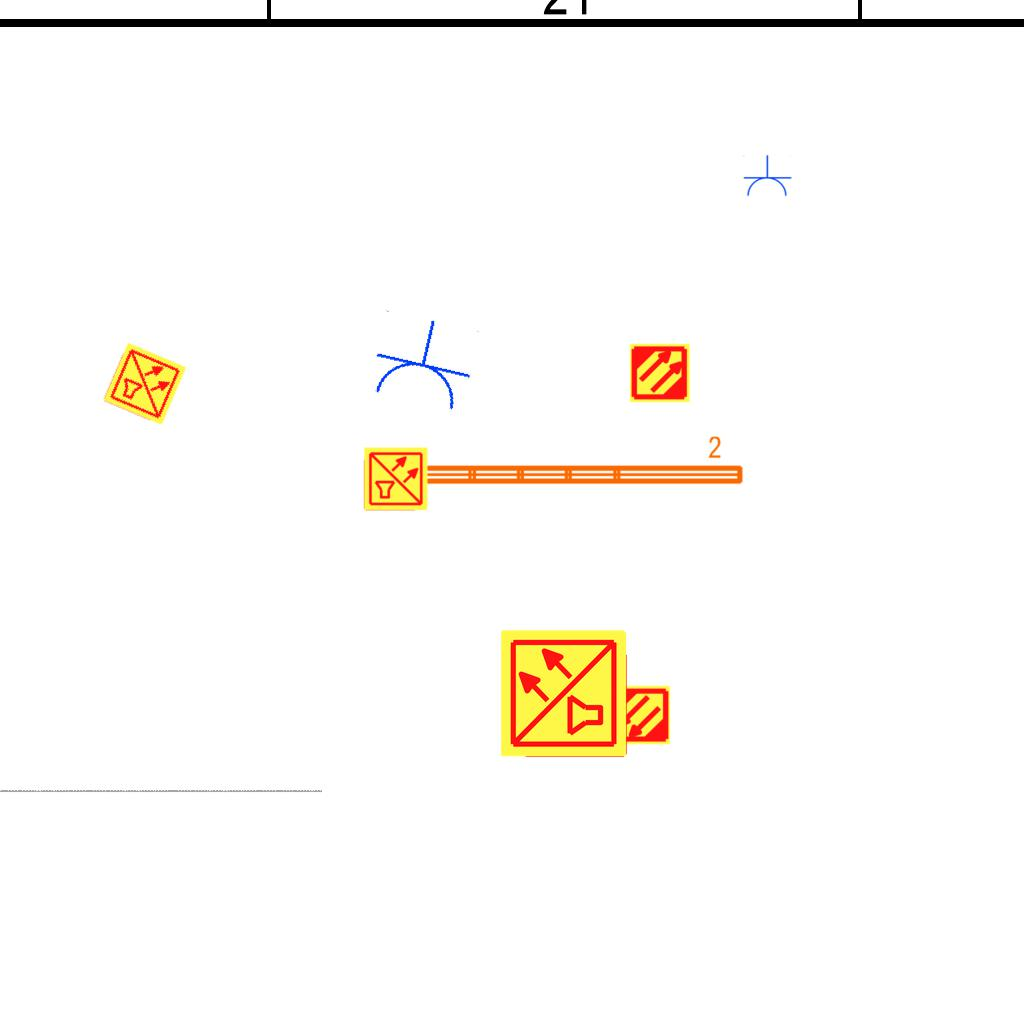ASR_Ansaugrauchmelder: (629, 342, 691, 404), (609, 684, 671, 746)
Ambulanz_Pendelleuchte_LED: (360, 434, 747, 490)
OKW_Multisensormelder_(Kombination_optischer_Rauch-Kahlenmonoxid_Waerme-Melder): (498, 627, 630, 759), (101, 340, 189, 428), (363, 446, 429, 512)
Schukosteckdose_einfach: (364, 308, 482, 417), (742, 155, 792, 198)
